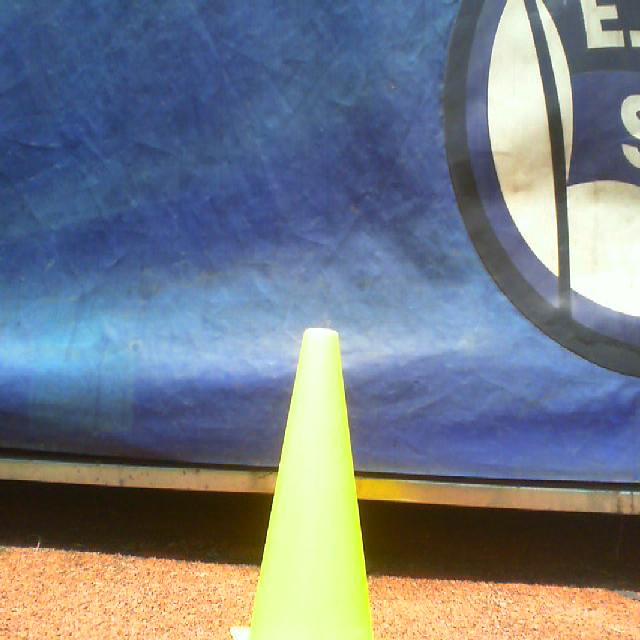cone: (229, 328, 374, 640)
